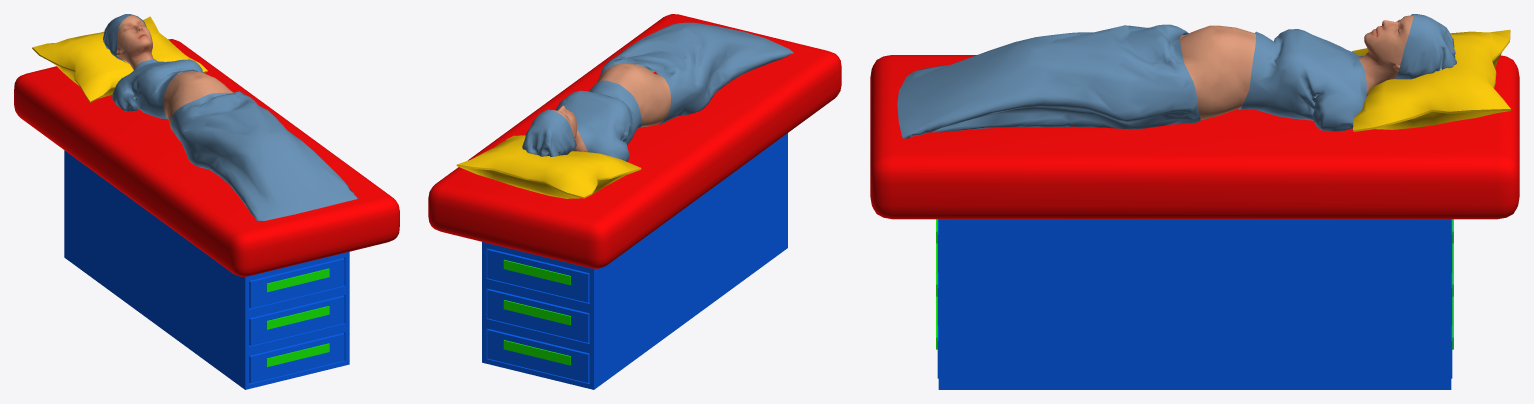
The model's file is mannequin.fbx.
3 renders of one model, left to right at view 1: azimuth 30°, elevation 25°; view 2: azimuth 150°, elevation 25°; view 3: azimuth 270°, elevation 25°, orthographic. The views are drawn at different scales.
Parts seen in each view (by area): view 1: hospital_fnt_cama2, clothes_low, CC_Base_Body_low; view 2: hospital_fnt_cama2, clothes_low, CC_Base_Body_low; view 3: hospital_fnt_cama2, clothes_low, CC_Base_Body_low.
Part boxes in pixels (box(x1,y1,x2,y2)): hospital_fnt_cama2: box(14, 16, 399, 389); clothes_low: box(103, 14, 358, 220); CC_Base_Body_low: box(116, 15, 233, 130); hospital_fnt_cama2: box(428, 14, 841, 389); clothes_low: box(522, 22, 793, 161); CC_Base_Body_low: box(552, 63, 670, 152); hospital_fnt_cama2: box(870, 29, 1519, 389); clothes_low: box(897, 14, 1456, 138); CC_Base_Body_low: box(1180, 15, 1413, 120).
Bounding box in the file's own units: 80 × 109 × 190.
